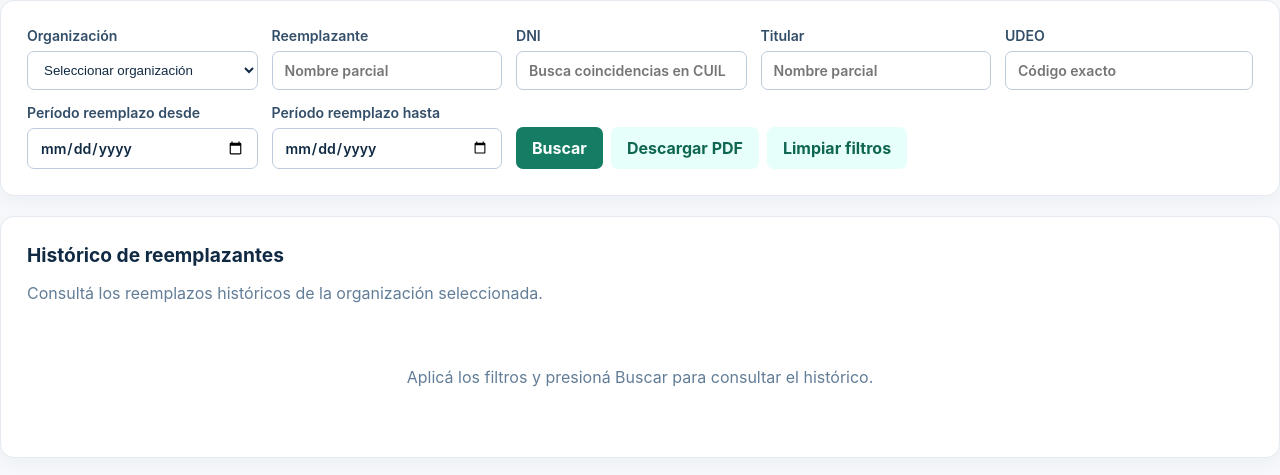
Test: History › usa la UDEO de la organización cuando row.udeo viene vacío
Click the button "Buscar": x=559, y=148 x1=516 y1=127 x2=603 y2=169
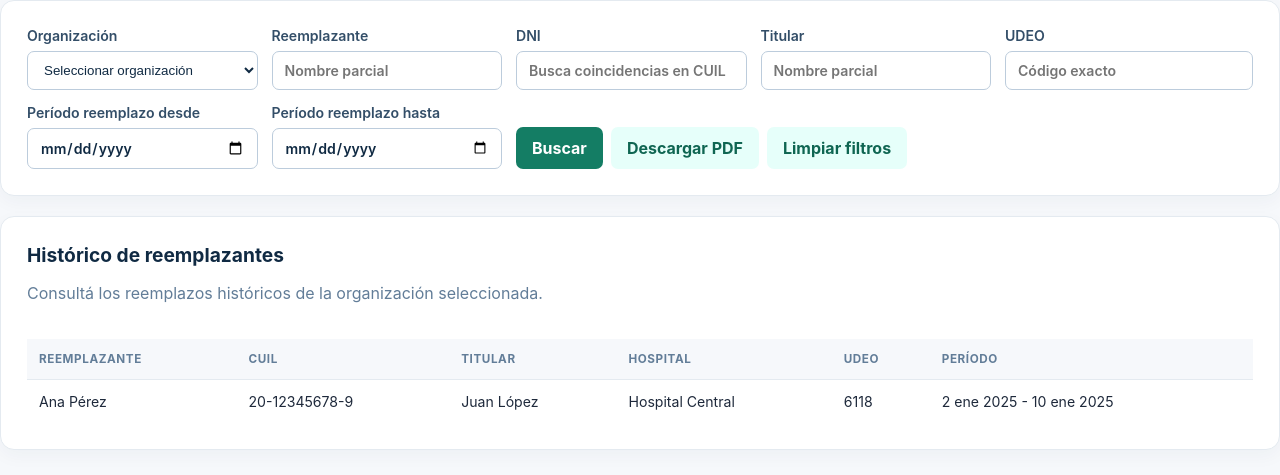
expect the text "6118" is shown: met, box x1=832 y1=380 x2=930 y2=423
